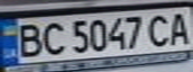0: (87, 16, 109, 52)
4: (106, 13, 130, 51)
5: (66, 17, 90, 54)
7: (124, 12, 148, 48)
A: (163, 9, 193, 45)
B: (9, 20, 45, 58)
C: (36, 19, 69, 56), (145, 11, 175, 47)
